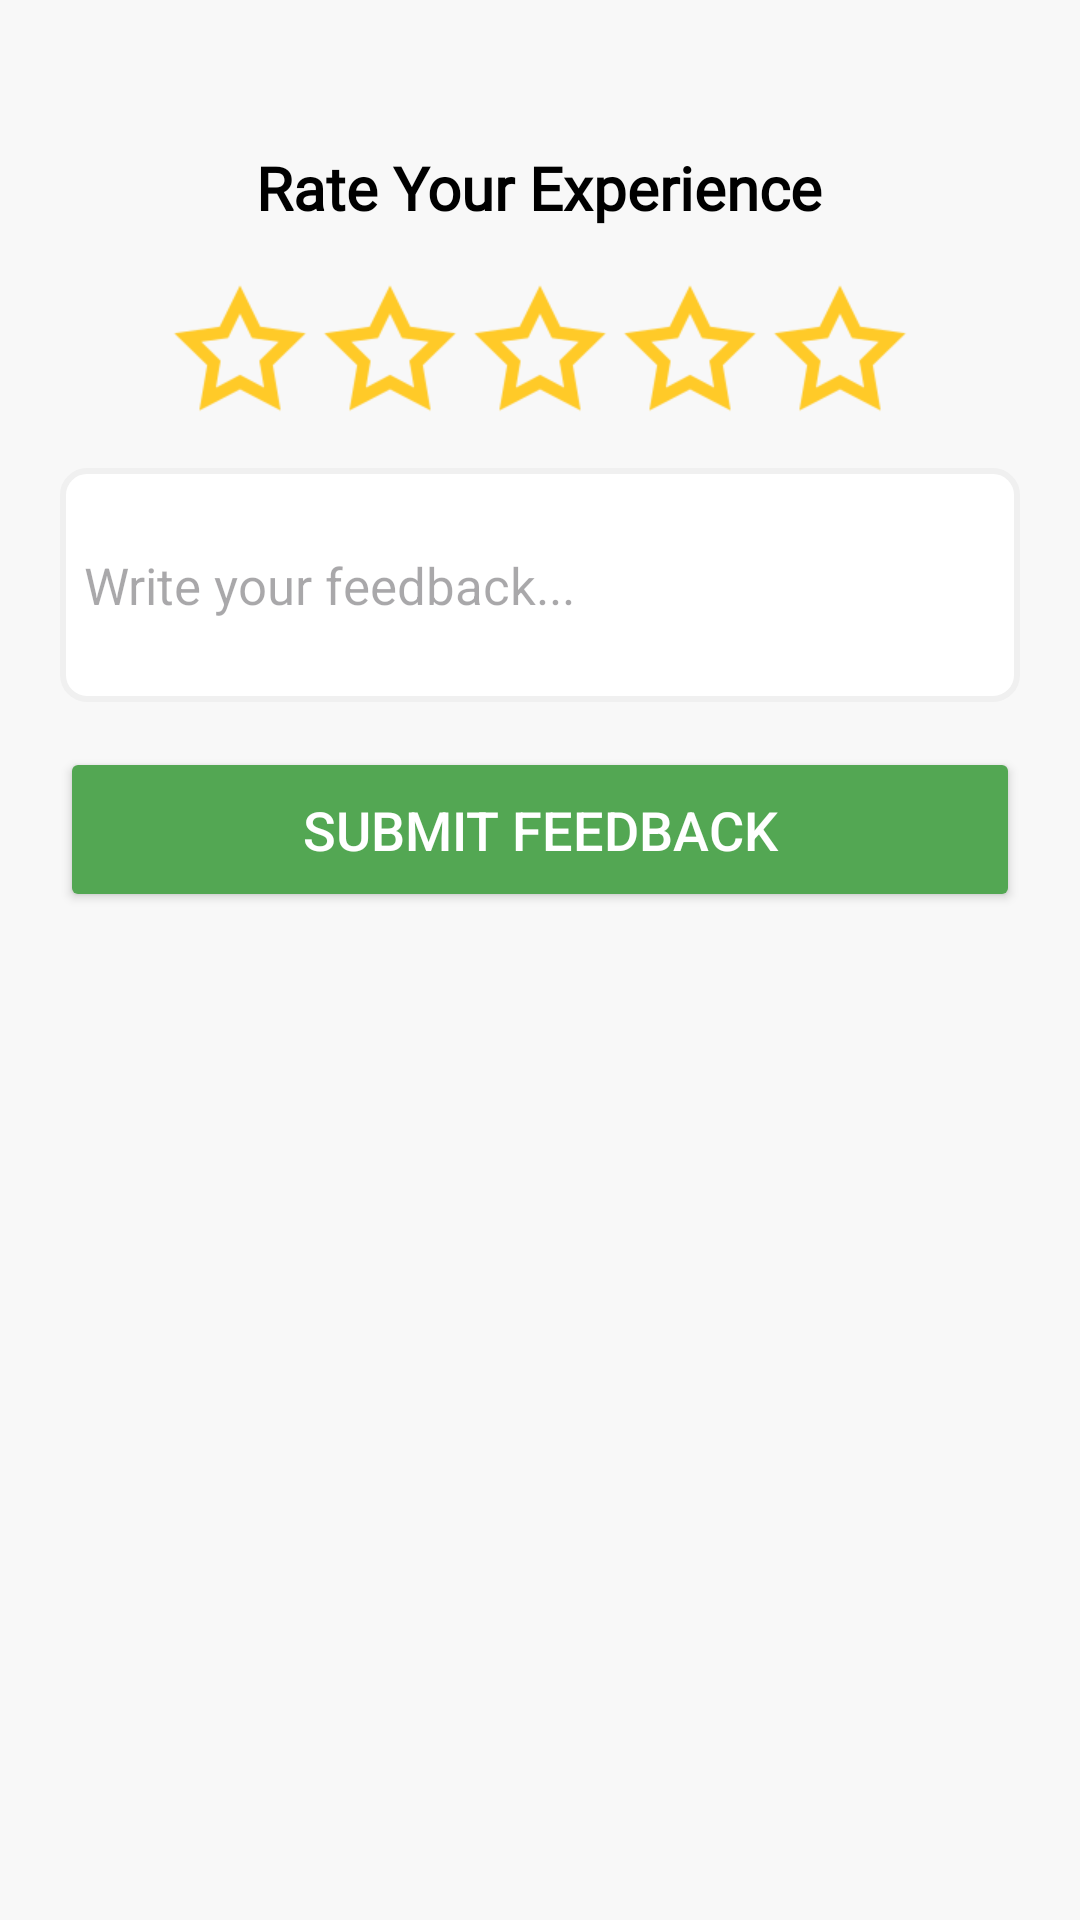

Where to tap for icons on this 1080 x 1920 app screen, as (x,y):
star: (240,348), (390,348), (540,348), (690,348), (840,348)
